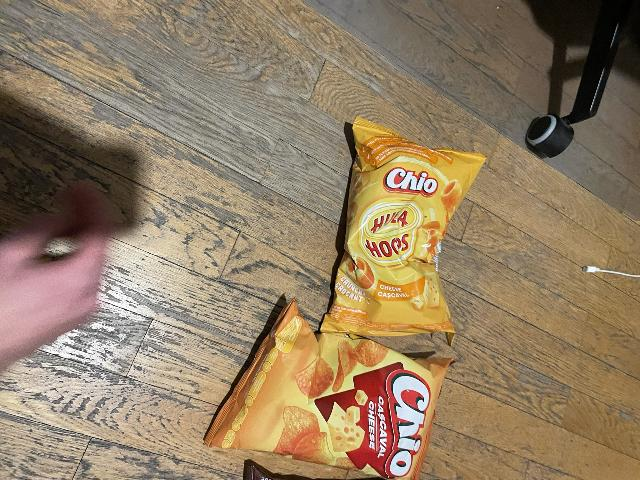Chio Cascaval 125g: (201, 295, 452, 479)
Chio Hula Hoops Cheese 70g: (325, 121, 478, 339)
